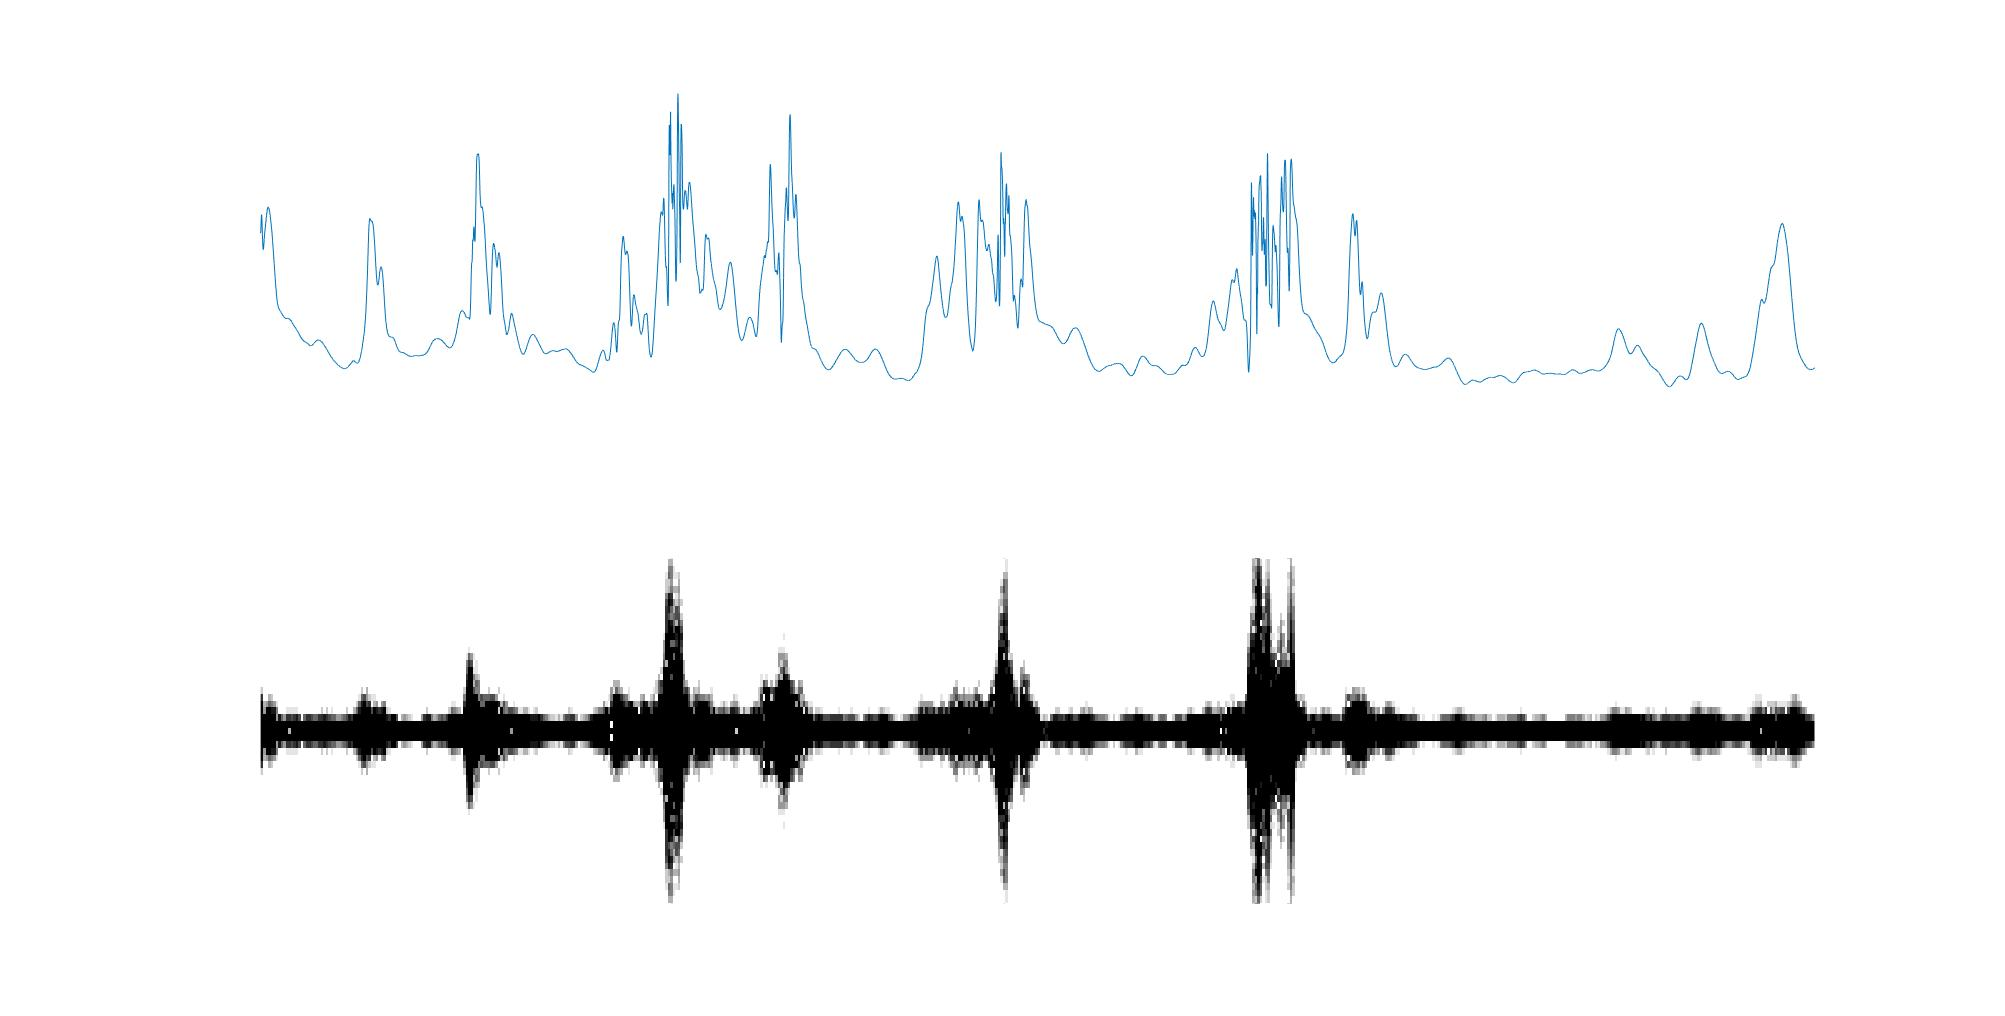spot: (1245, 559, 1300, 903), (990, 559, 1034, 895), (657, 559, 697, 899)
